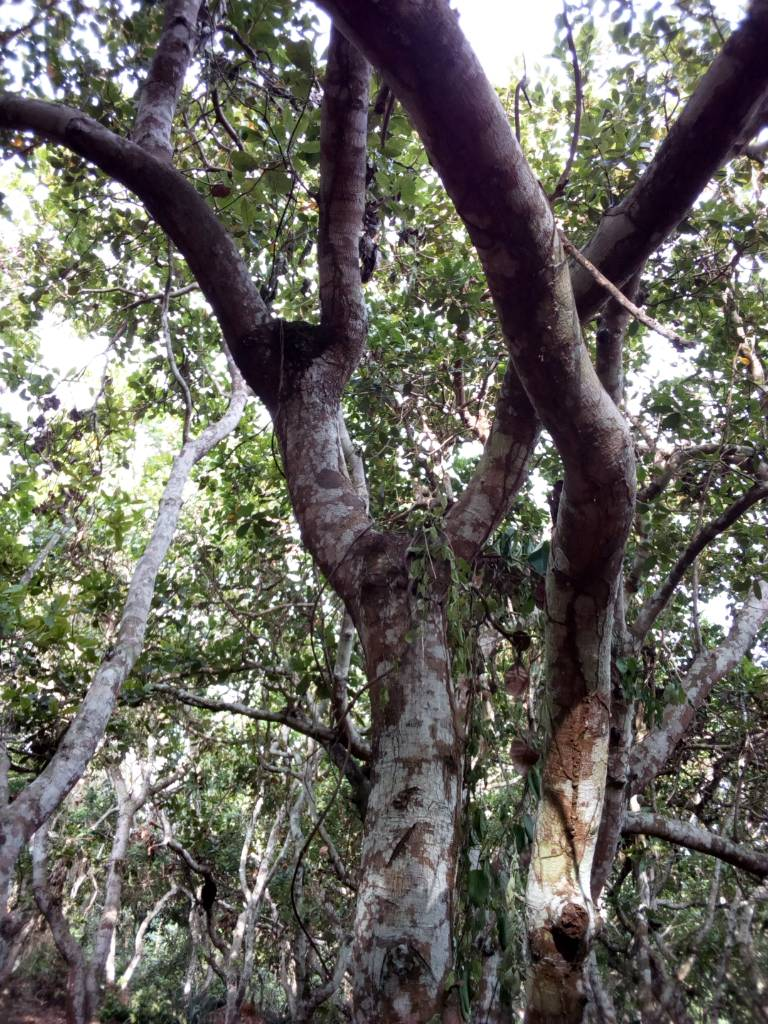Termites: (566, 607, 596, 882), (247, 316, 336, 380)
